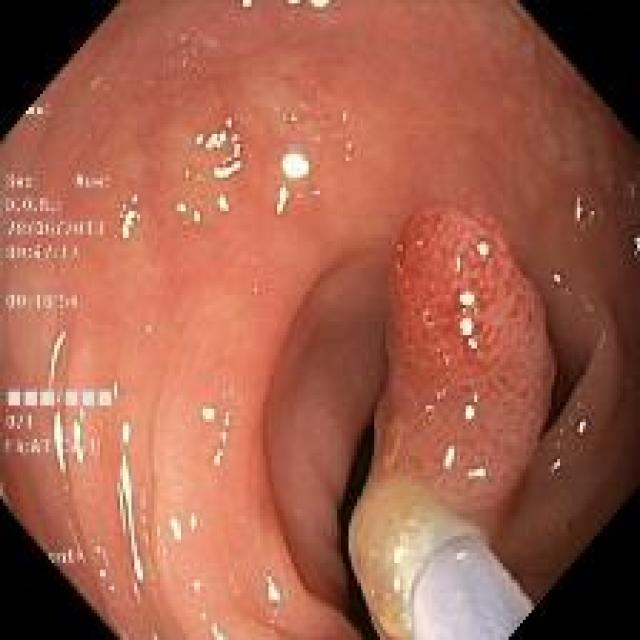Polyps: (375, 204, 555, 528)
